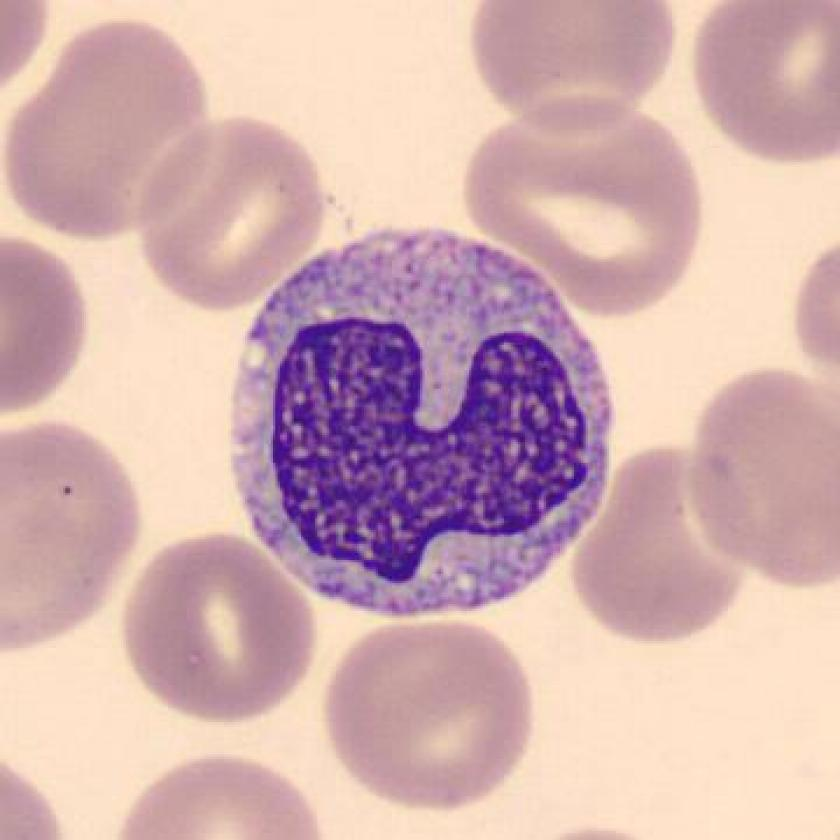monocyte: (211, 214, 640, 628)
